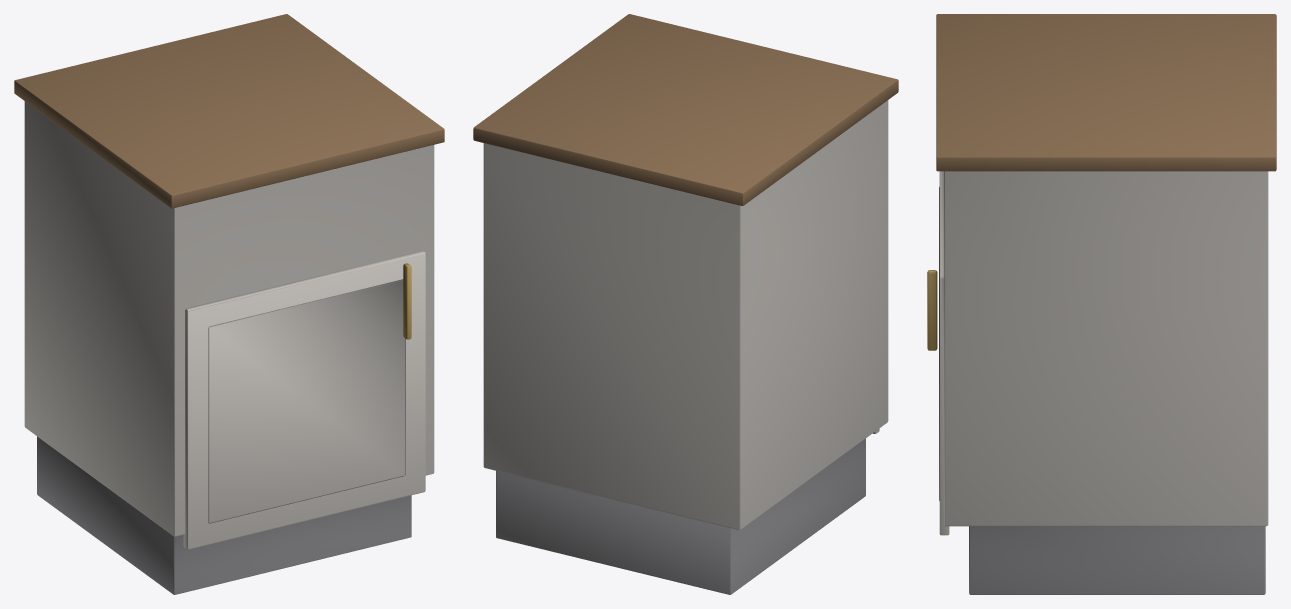
The model's file is kitchen_corner.glb.
3 renders of one model, left to right at view 1: azimuth 30°, elevation 25°; view 2: azimuth 150°, elevation 25°; view 3: azimuth 270°, elevation 25°, orthographic. The views are drawn at different scales.
Visible parts, largest first — view 1: kitchen_corner; view 2: kitchen_corner; view 3: kitchen_corner.
Boxes of the visible parts, x1,y1,x2,y2 form: kitchen_corner: [14, 14, 444, 594]; kitchen_corner: [473, 14, 898, 594]; kitchen_corner: [927, 14, 1276, 594].
Bounding box in the file's own units: 0.62 × 0.9 × 0.636.
